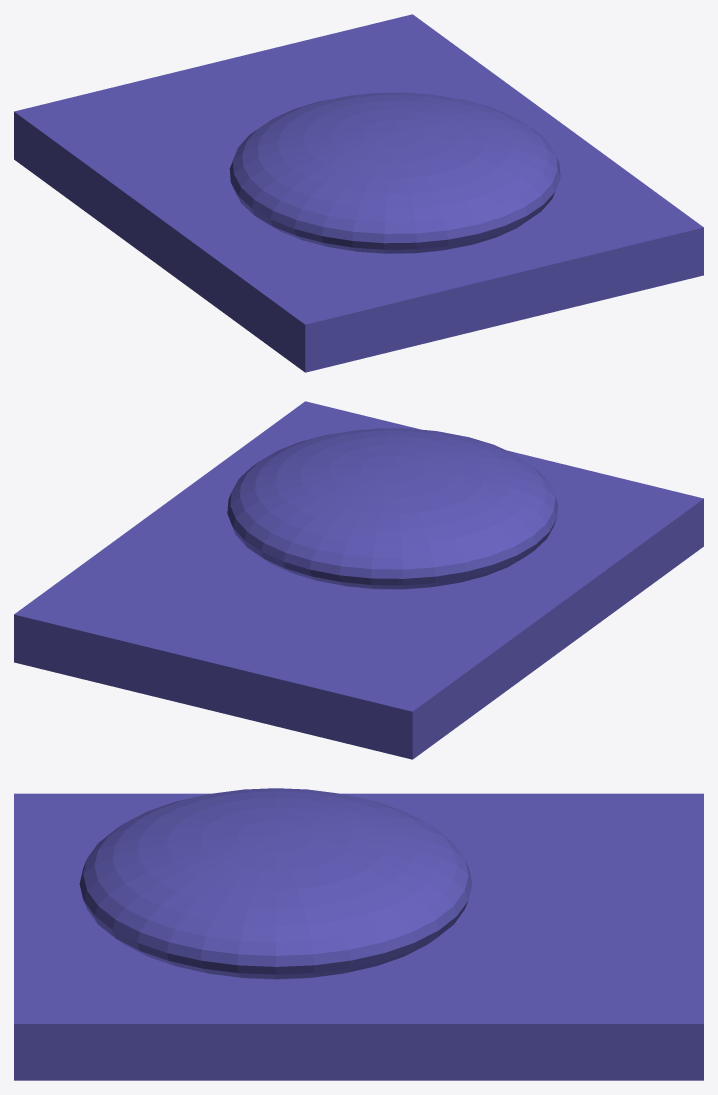
3 renders of one model, top to bottom at view 1: azimuth 30°, elevation 25°; view 2: azimuth 150°, elevation 25°; view 3: azimuth 270°, elevation 25°, orthographic. The views are drawn at different scales.
Parts seen in each view (by area): view 1: Cube, Sphere; view 2: Cube, Sphere; view 3: Cube, Sphere.
Boxes of the visible parts, x1,y1,x2,y2 form: Cube: (14,14,703,372); Sphere: (229,92,560,253); Cube: (14,401,703,759); Sphere: (227,428,558,589); Cube: (14,793,703,1080); Sphere: (79,788,472,979).
Bounding box in the file's own units: 236 × 62.34 × 299.
